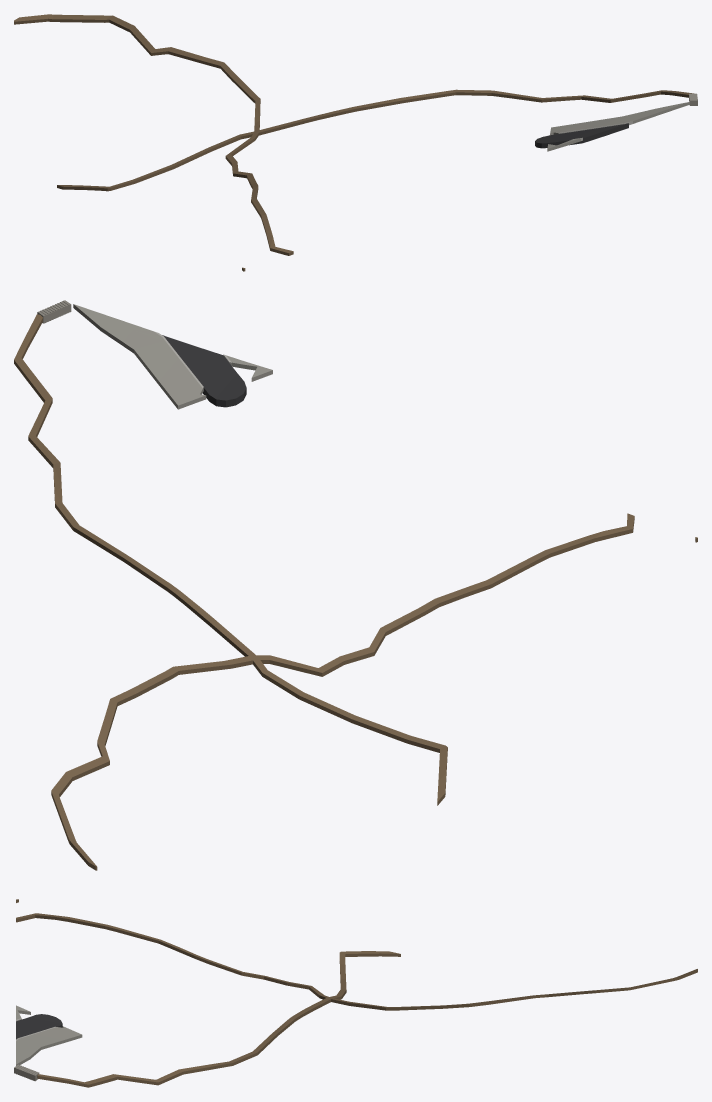
3 views of the same model, one above another, from view 1: azimuth 30°, elevation 25°; view 2: azimuth 150°, elevation 25°; view 3: azimuth 270°, elevation 25° (orthographic). The views are drawn at different scales.
Bounding box in the file's own units: 118 × 27.78 × 146.
